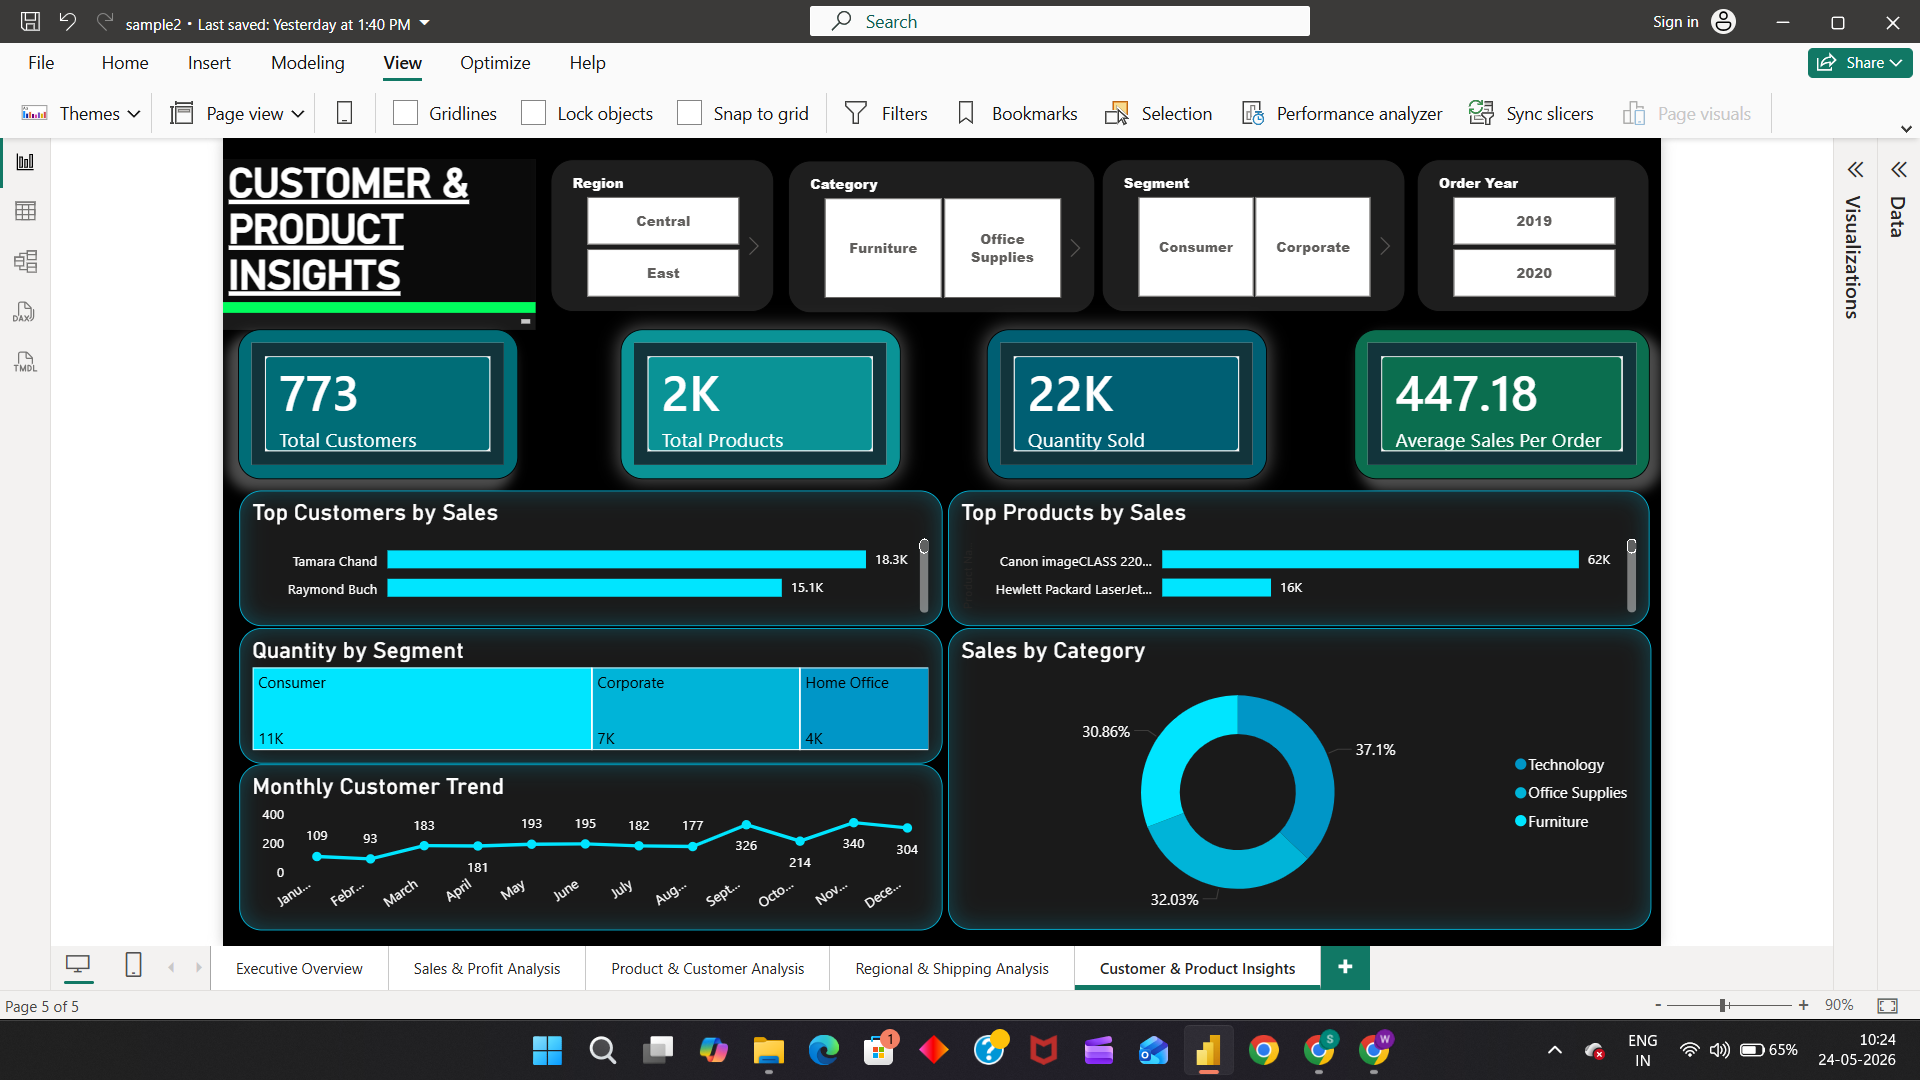

The dashboard page shown, as its layout file describes it:
{"tool":"powerbi","page":{"name":"Customer & Product Insights","canvas":[1280,720],"ordinal":4},"visuals":[{"type":"textbox","title":"CUSTOMER & PRODUCT INSIGHTS","box":[0,19.3,278.7,152],"z":0},{"type":"slicer","fields":{"Values":["Orders.Order Year"]},"box":[1062.9,19.3,207.5,136.3],"z":1000},{"type":"slicer","fields":{"Values":["Orders.Segment"]},"box":[783,19.3,270.2,136.3],"z":2000},{"type":"slicer","fields":{"Values":["Orders.Category"]},"box":[503.1,20.5,273.9,136.3],"z":3000},{"type":"slicer","fields":{"Values":["Orders.Region"]},"box":[292,19.3,199.1,136.3],"z":4000},{"type":"cardVisual","fields":{"Data":["Orders.Total Products"]},"box":[353.5,170.4,250,133.8],"z":5000},{"type":"cardVisual","fields":{"Data":["Orders.Quantity Sold"]},"box":[680.5,170.4,250,133.8],"z":6000},{"type":"cardVisual","fields":{"Data":["Orders.Average Sales Per Order"]},"box":[1007.4,170.1,263,133.9],"z":7000},{"type":"cardVisual","fields":{"Data":["Orders.Total Customers"]},"box":[13.9,170.4,250,133.8],"z":8000},{"type":"clusteredBarChart","title":"Top Customers by Sales","fields":{"Category":["Orders.Customer Name"],"Y":["Orders.Total Sales"]},"box":[14.5,313.7,626.1,121],"z":9000},{"type":"clusteredBarChart","title":"Top Products by Sales","fields":{"Category":["Orders.Product Name"],"Y":["Orders.Total Sales"]},"box":[645.4,313.7,624.9,120.6],"z":10000},{"type":"donutChart","title":"Sales by Category","fields":{"Category":["Orders.Category"],"Y":["Orders.Total Sales"]},"box":[645.4,436.7,626.1,269],"z":11000},{"type":"treemap","title":"Quantity by Segment","fields":{"Group":["Orders.Segment"],"Values":["Orders.Quantity Sold"]},"box":[14.5,436.7,626.1,120.6],"z":12000},{"type":"lineChart","title":"Monthly Customer Trend","fields":{"Category":["Orders.Month"],"Y":["Orders.Monthly Customers"]},"box":[14.5,557.4,626.1,148.4],"z":13000}]}

Visuals, with their boxes on the page's 1280x720 design canvas (x1, y1, x2, y2). These are canvas units, not pixel positions in the 1920x1080 screenshot, which may show the page scaled, cropped or inside an application window:
"CUSTOMER & PRODUCT INSIGHTS" textbox: left=0, top=19, right=279, bottom=171
slicer - Orders.Order Year: left=1063, top=19, right=1270, bottom=156
slicer - Orders.Segment: left=783, top=19, right=1053, bottom=156
slicer - Orders.Category: left=503, top=20, right=777, bottom=157
slicer - Orders.Region: left=292, top=19, right=491, bottom=156
cardVisual - Orders.Total Products: left=354, top=170, right=604, bottom=304
cardVisual - Orders.Quantity Sold: left=680, top=170, right=930, bottom=304
cardVisual - Orders.Average Sales Per Order: left=1007, top=170, right=1270, bottom=304
cardVisual - Orders.Total Customers: left=14, top=170, right=264, bottom=304
"Top Customers by Sales" clusteredBarChart: left=14, top=314, right=641, bottom=435
"Top Products by Sales" clusteredBarChart: left=645, top=314, right=1270, bottom=434
"Sales by Category" donutChart: left=645, top=437, right=1272, bottom=706
"Quantity by Segment" treemap: left=14, top=437, right=641, bottom=557
"Monthly Customer Trend" lineChart: left=14, top=557, right=641, bottom=706
